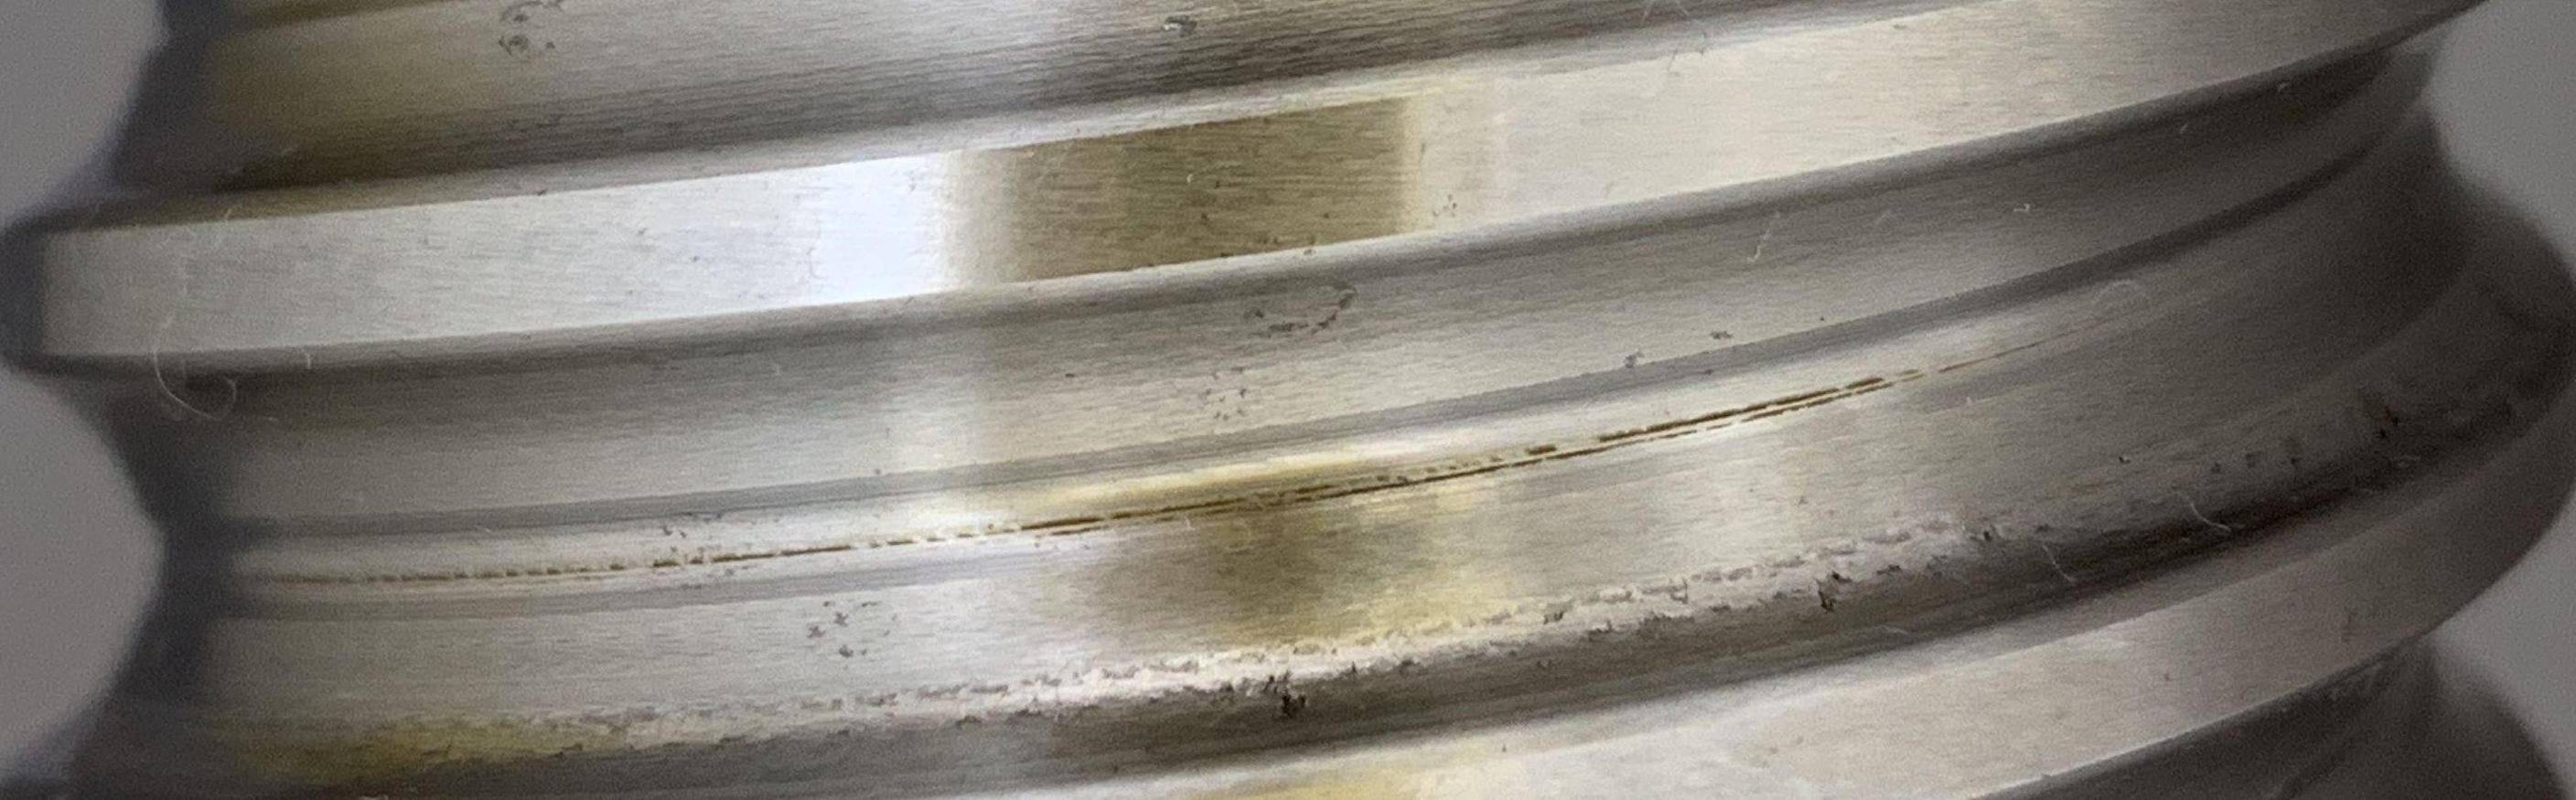pitting: (1814, 568, 1853, 611), (1272, 693, 1306, 721)
